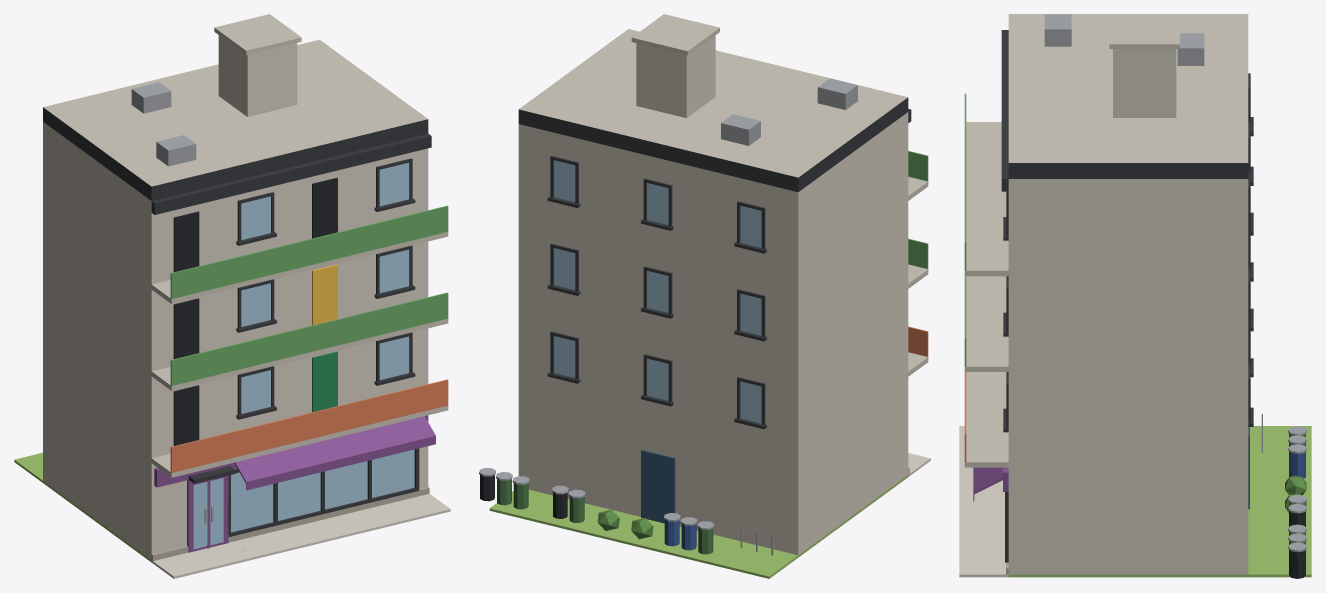
Rendered from Blok_duz_4k_7_Hafif.fbx.
3 renders of one model, left to right at view 1: azimuth 30°, elevation 25°; view 2: azimuth 150°, elevation 25°; view 3: azimuth 270°, elevation 25°, orthographic. The views are drawn at different scales.
Visible parts, largest first — view 1: Blok_duz_4k_7_Hafif; view 2: Blok_duz_4k_7_Hafif; view 3: Blok_duz_4k_7_Hafif.
Boxes of the visible parts, x1=… form: Blok_duz_4k_7_Hafif: x1=14, y1=14, x2=450, y2=578; Blok_duz_4k_7_Hafif: x1=479, y1=14, x2=930, y2=578; Blok_duz_4k_7_Hafif: x1=959, y1=14, x2=1311, y2=578.
Bounding box in the file's own units: 10.57 × 15.37 × 10.
